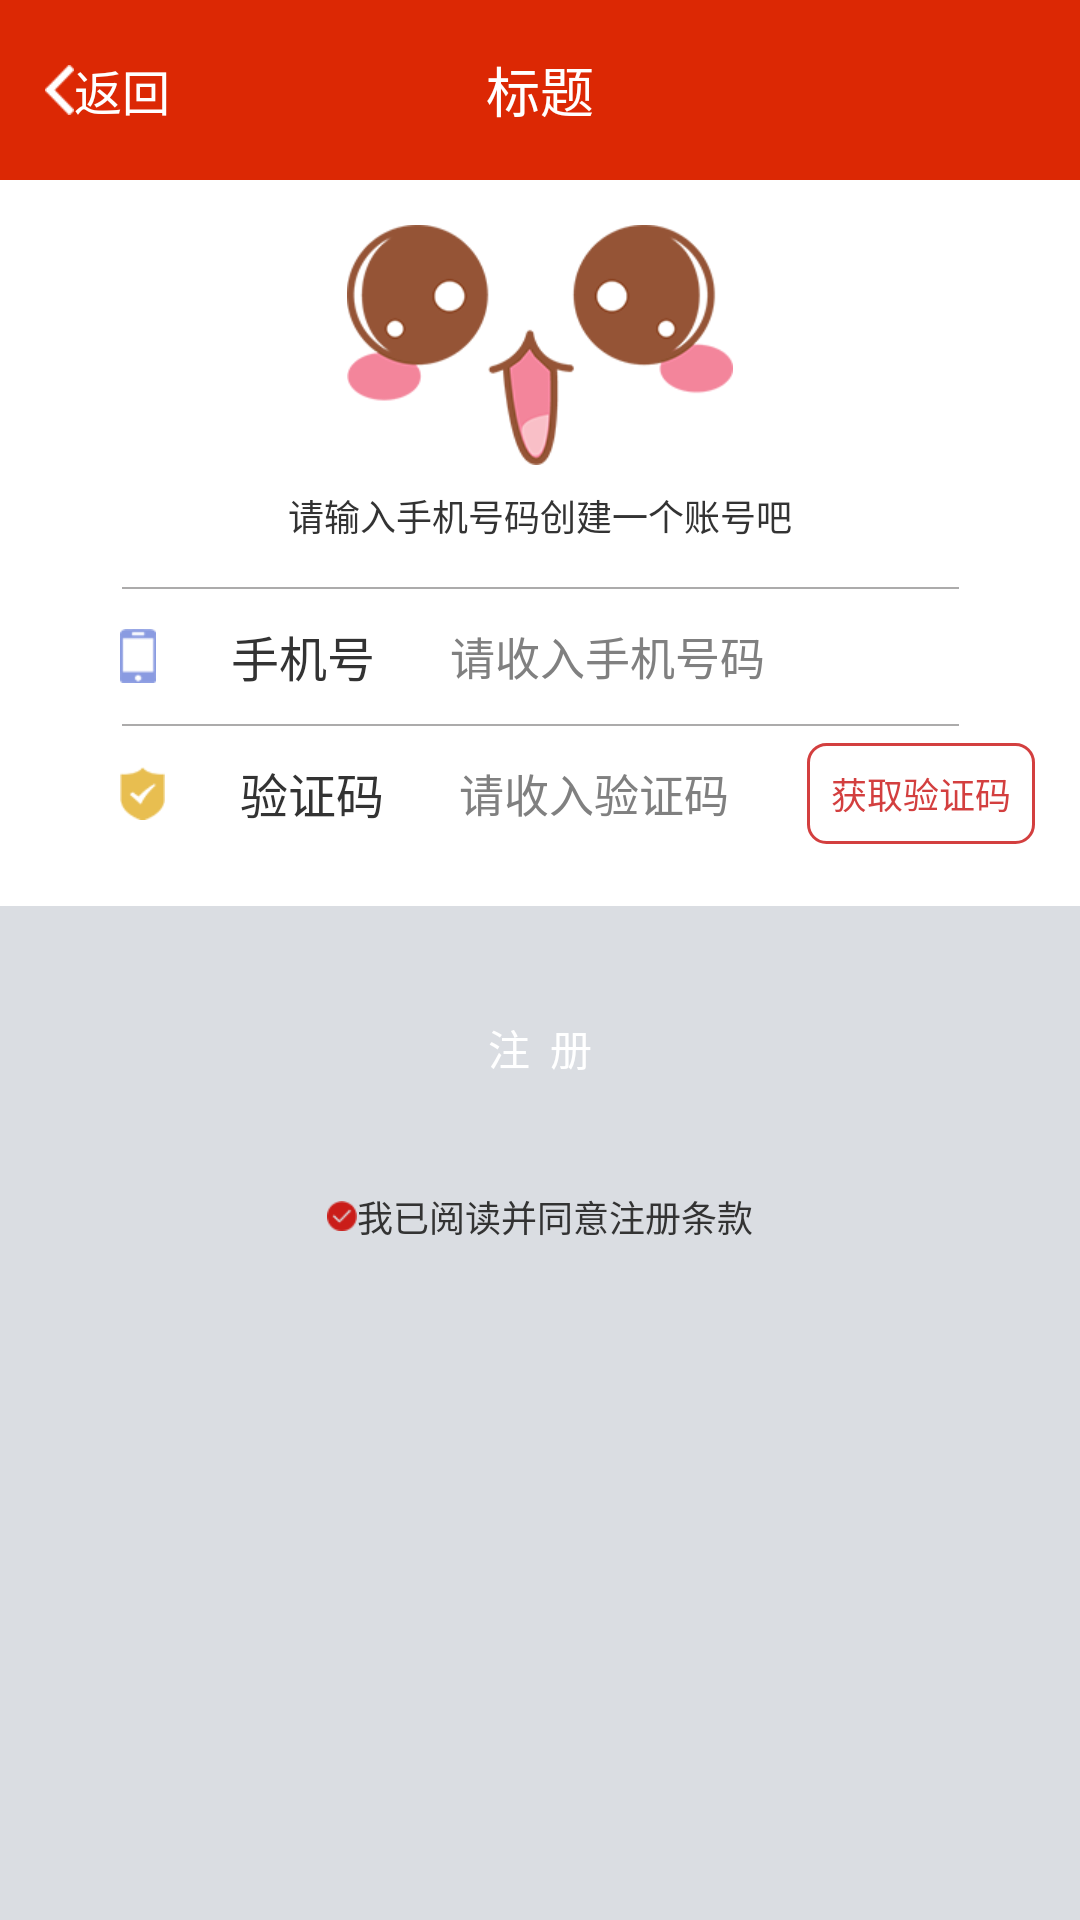

Locate icon controls on the screen. Image size 1080x1920, boxes as (x1, y1, x2, y2).
reg duihao: (327, 1201, 357, 1231)
reg mobile: (120, 629, 156, 683)
